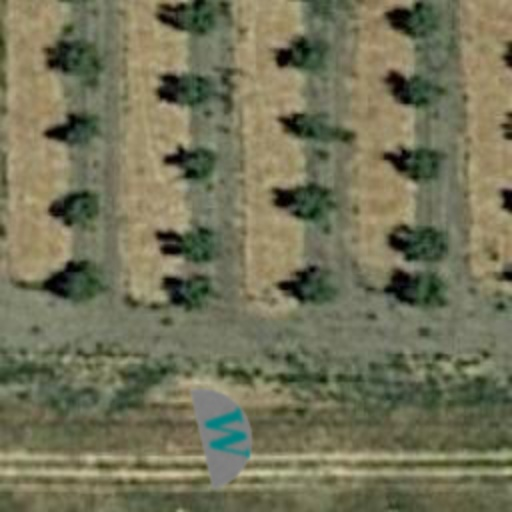semicircle: (164, 372, 288, 496)
